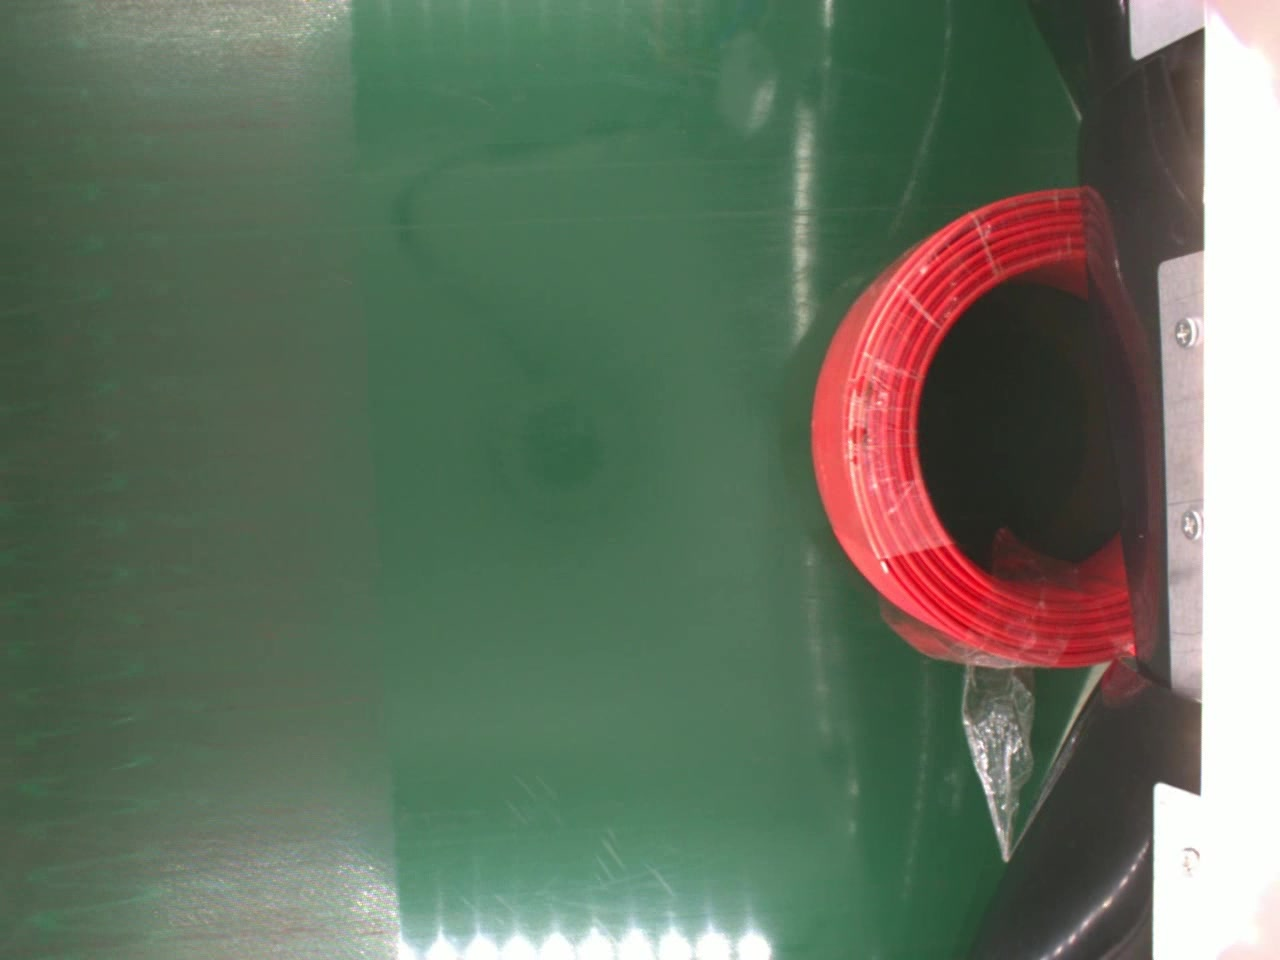red: (805, 187, 1133, 667)
